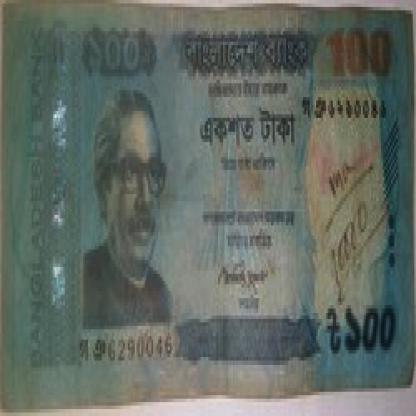one hundred taka: (324, 24, 394, 83), (82, 24, 153, 80), (343, 294, 399, 361)
